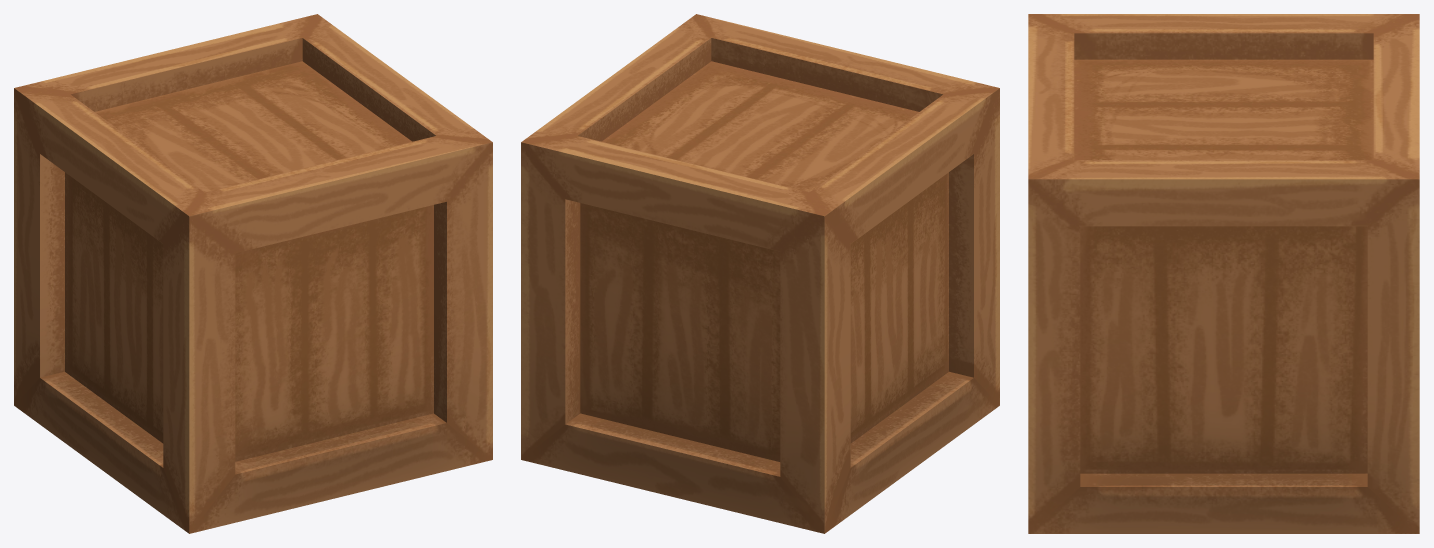
The model's file is crate.fbx.
The picture shows the model from 3 angles, left to right: view 1: azimuth 30°, elevation 25°; view 2: azimuth 150°, elevation 25°; view 3: azimuth 270°, elevation 25°; orthographic projection. The views are drawn at different scales.
Parts seen in each view (by area): view 1: Cube.006; view 2: Cube.006; view 3: Cube.006.
Boxes of the visible parts, x1,y1,x2,y2 form: Cube.006: (14, 14, 492, 533); Cube.006: (521, 14, 999, 533); Cube.006: (1028, 14, 1419, 533).
Bounding box in the file's own units: 182 × 182 × 182.
1 material, 1 textured.
